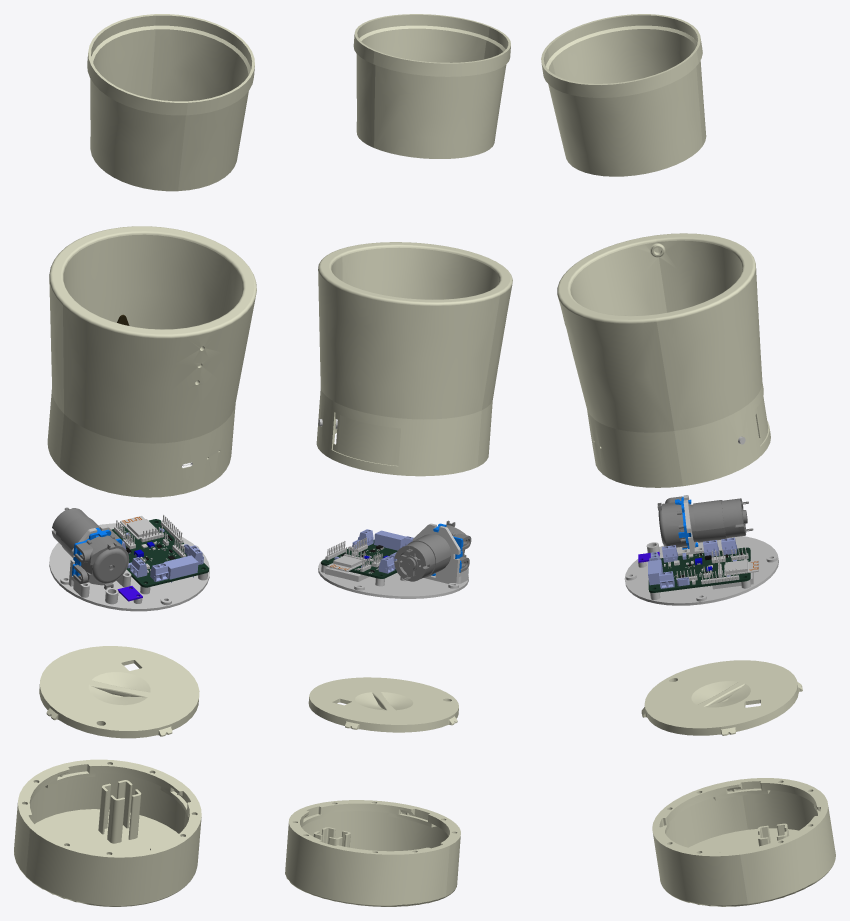
The model's file is topf-explosion.glb.
3 views of the same model, side by side, from view 1: azimuth 30°, elevation 25°; view 2: azimuth 150°, elevation 25°; view 3: azimuth 270°, elevation 25° (orthographic). The views are drawn at different scales.
Visible parts, largest first — view 1: TOPFMODUL_1, INNENTOPF, TANK_DUMMY, TANK_DECKEL, BODEN_OBERESTOPFMODUL, GEHAUESE, STUDIENPROJEKT_SMARTER_BLUMENTO, MOTOR, PCB_FINAL_ASM, LDD-700L-113838, BEFESTIGUNG_PUMPE, ESP32-S3-WROOM-1-N8R8-6355_94; view 2: TOPFMODUL_1, INNENTOPF, TANK_DUMMY, TANK_DECKEL, BODEN_OBERESTOPFMODUL, MOTOR, BEFESTIGUNG_PUMPE, STUDIENPROJEKT_SMARTER_BLUMENTO, PCB_FINAL_ASM; view 3: TOPFMODUL_1, INNENTOPF, TANK_DUMMY, TANK_DECKEL, BODEN_OBERESTOPFMODUL, MOTOR, STUDIENPROJEKT_SMARTER_BLUMENTO, GEHAUESE, PCB_FINAL_ASM.
Part boxes in pixels (<box>): TOPFMODUL_1: <box>47,226,256,497</box>; INNENTOPF: <box>87,14,254,191</box>; TANK_DUMMY: <box>14,759,201,906</box>; TANK_DECKEL: <box>39,646,199,738</box>; BODEN_OBERESTOPFMODUL: <box>49,523,209,611</box>; GEHAUESE: <box>73,534,129,589</box>; STUDIENPROJEKT_SMARTER_BLUMENTO: <box>111,519,208,587</box>; MOTOR: <box>52,507,112,568</box>; PCB_FINAL_ASM: <box>122,541,203,581</box>; LDD-700L-113838: <box>163,555,198,582</box>; BEFESTIGUNG_PUMPE: <box>68,525,131,590</box>; ESP32-S3-WROOM-1-N8R8-6355_94: <box>120,516,157,539</box>; TOPFMODUL_1: <box>316,242,512,476</box>; INNENTOPF: <box>353,14,510,158</box>; TANK_DUMMY: <box>285,800,460,906</box>; TANK_DECKEL: <box>308,677,458,732</box>; BODEN_OBERESTOPFMODUL: <box>318,558,468,598</box>; MOTOR: <box>394,534,450,581</box>; BEFESTIGUNG_PUMPE: <box>412,523,468,583</box>; STUDIENPROJEKT_SMARTER_BLUMENTO: <box>321,540,397,578</box>; PCB_FINAL_ASM: <box>357,529,413,573</box>; TOPFMODUL_1: <box>557,233,770,487</box>; INNENTOPF: <box>541,14,706,176</box>; TANK_DUMMY: <box>652,778,835,906</box>; TANK_DECKEL: <box>641,660,802,735</box>; BODEN_OBERESTOPFMODUL: <box>624,536,778,605</box>; MOTOR: <box>689,498,753,542</box>; STUDIENPROJEKT_SMARTER_BLUMENTO: <box>648,547,750,592</box>; GEHAUESE: <box>657,496,687,548</box>; PCB_FINAL_ASM: <box>649,537,737,588</box>.
Size of the model in its own units: 147 by 677 by 216.
